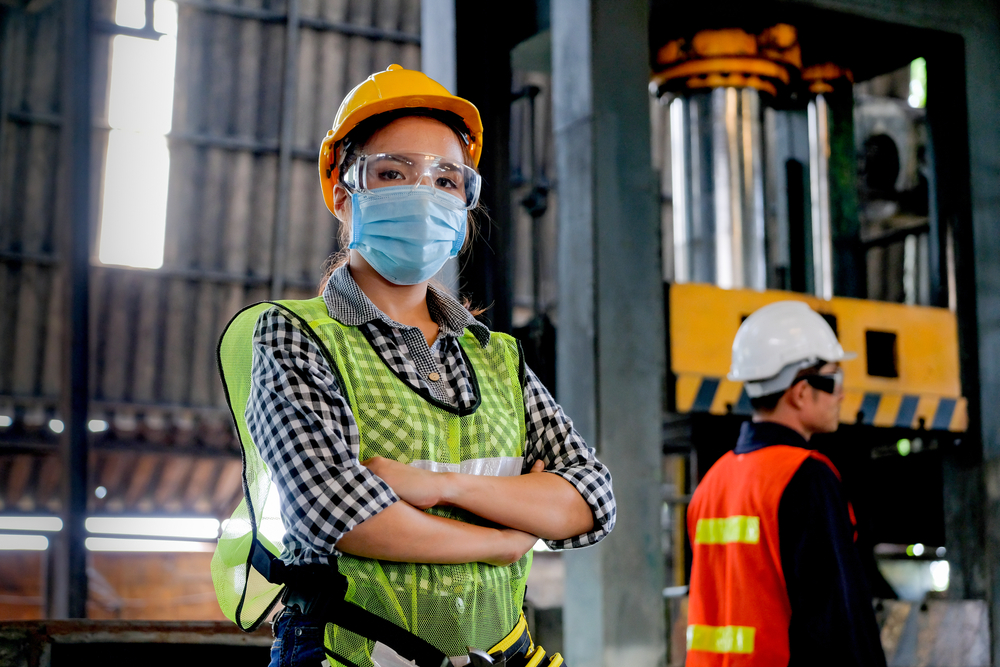Helmet: (316, 57, 489, 222), (725, 295, 863, 399)
Mask: (344, 180, 487, 290)
Safety_Jacket: (207, 291, 576, 667), (679, 438, 888, 667)
